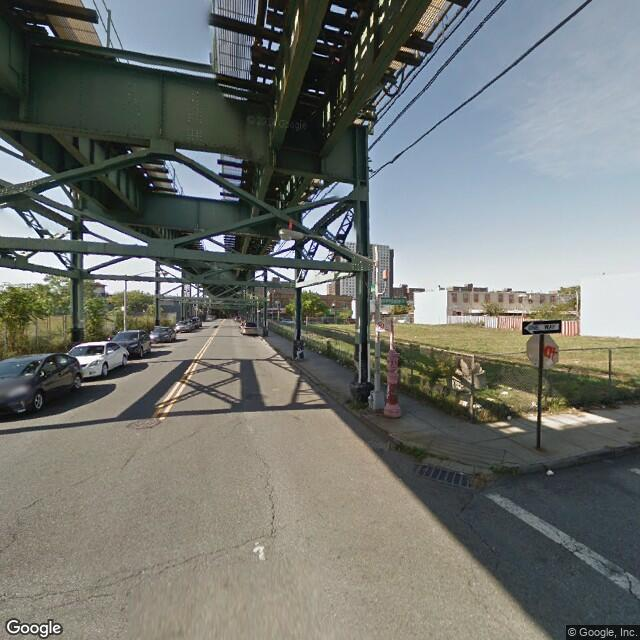litter: (497, 377, 519, 397), (499, 409, 518, 422), (542, 464, 557, 479), (527, 395, 539, 412)
